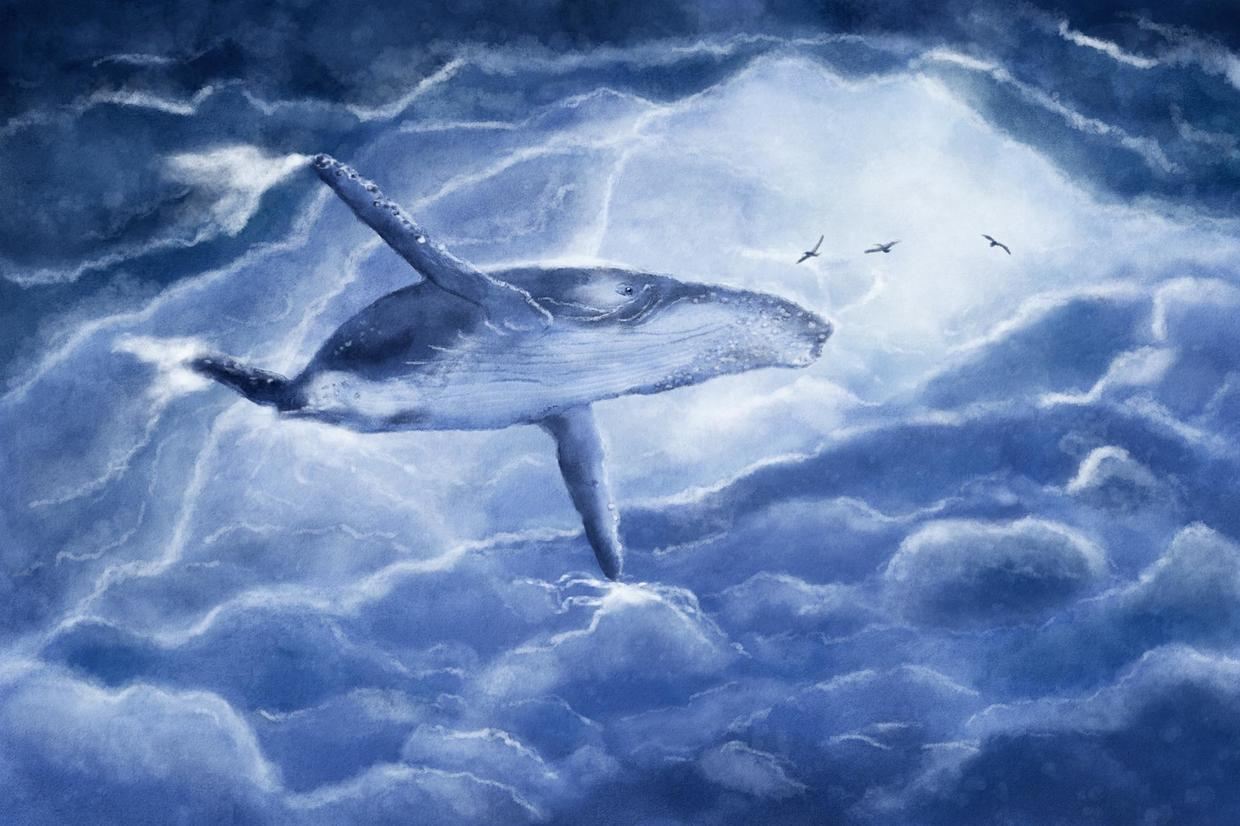bird: (791, 236, 828, 265), (866, 233, 908, 258), (984, 229, 1014, 257)
fish: (82, 172, 829, 584)
